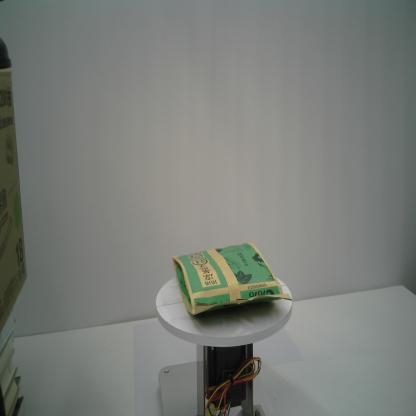Dried Food: (172, 240, 294, 317)
